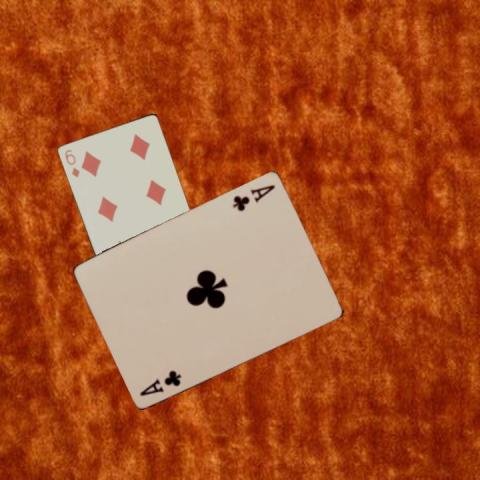6d: (61, 146, 81, 179)
Ac: (230, 181, 277, 212), (137, 367, 183, 397)
